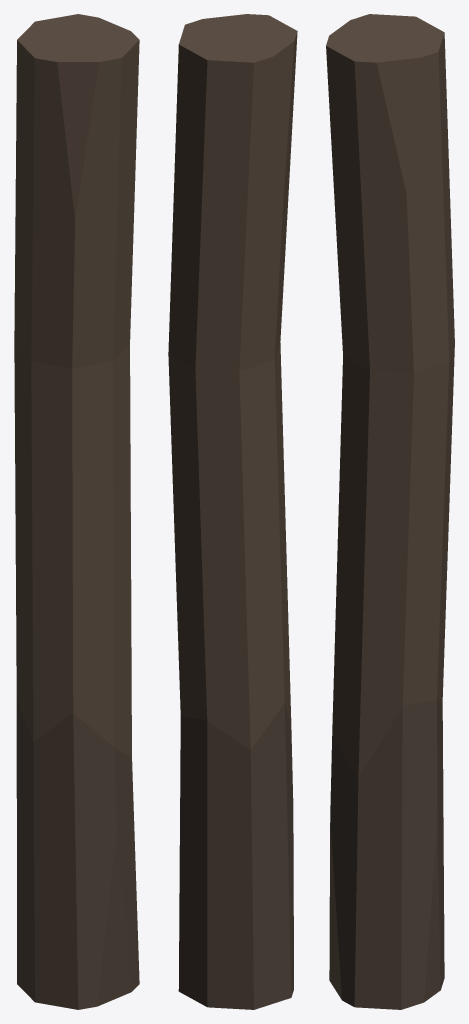
File: SM_Props_Farm_Fence_Round_Post.fbx
3 views of the same model, side by side, from view 1: azimuth 90°, elevation 25°; view 2: azimuth 150°, elevation 25°; view 3: azimuth 330°, elevation 25° (orthographic).
Parts seen in each view (by area): view 1: SM_Props_Farm_Fence_Round_Post; view 2: SM_Props_Farm_Fence_Round_Post; view 3: SM_Props_Farm_Fence_Round_Post.
Boxes of the visible parts, x1,y1,x2,y2 form: SM_Props_Farm_Fence_Round_Post: (14, 14, 139, 1009); SM_Props_Farm_Fence_Round_Post: (168, 14, 297, 1009); SM_Props_Farm_Fence_Round_Post: (326, 14, 454, 1009).
Bounding box in the file's own units: 17.15 × 136 × 16.35.
